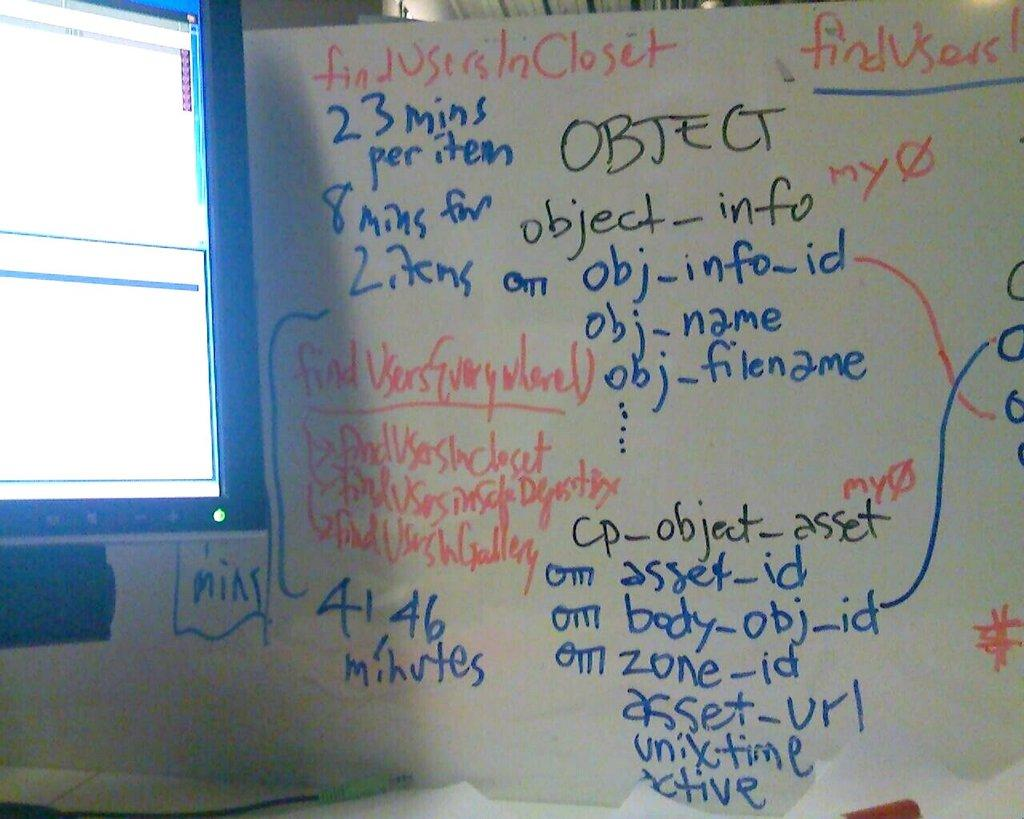Computer-monitor: (0, 0, 268, 542)
